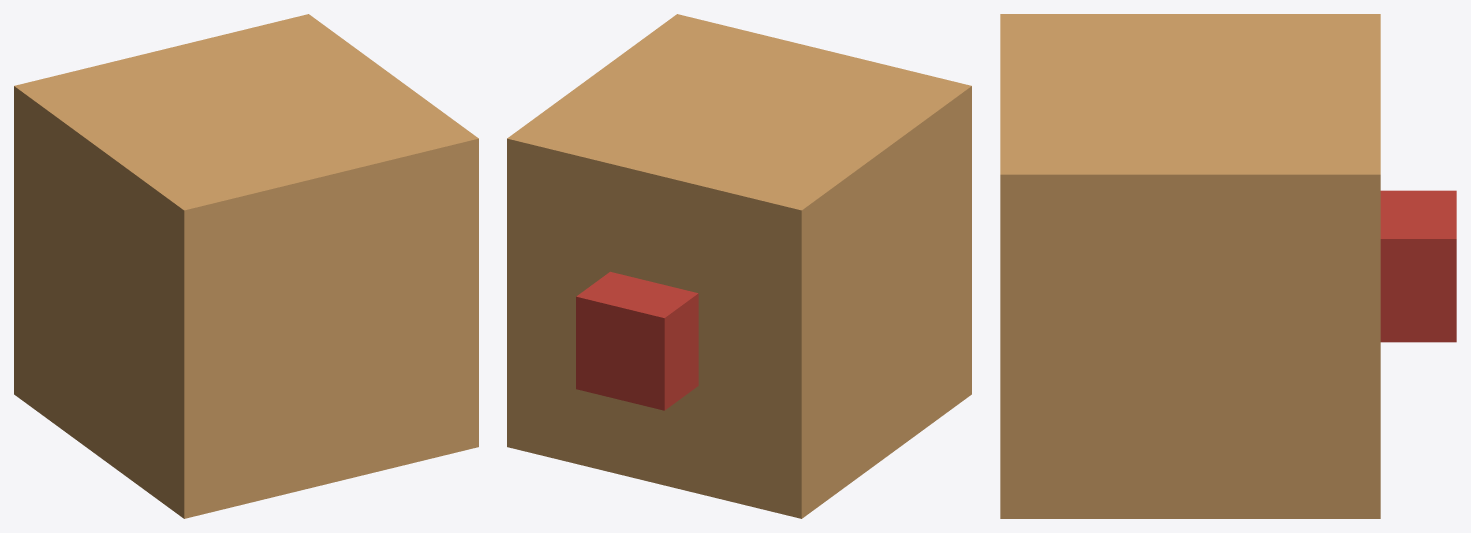
3 renders of one model, left to right at view 1: azimuth 30°, elevation 25°; view 2: azimuth 150°, elevation 25°; view 3: azimuth 270°, elevation 25°, orthographic. The views are drawn at different scales.
Visible parts, largest first — view 1: test_cube_body; view 2: test_cube_body; view 3: test_cube_body.
Boxes of the visible parts, box(x1,y1,x2,y2) form: test_cube_body: box(14, 14, 478, 518); test_cube_body: box(507, 14, 971, 518); test_cube_body: box(1000, 14, 1456, 518).
Size of the model in its own units: 1 by 1 by 1.2.
